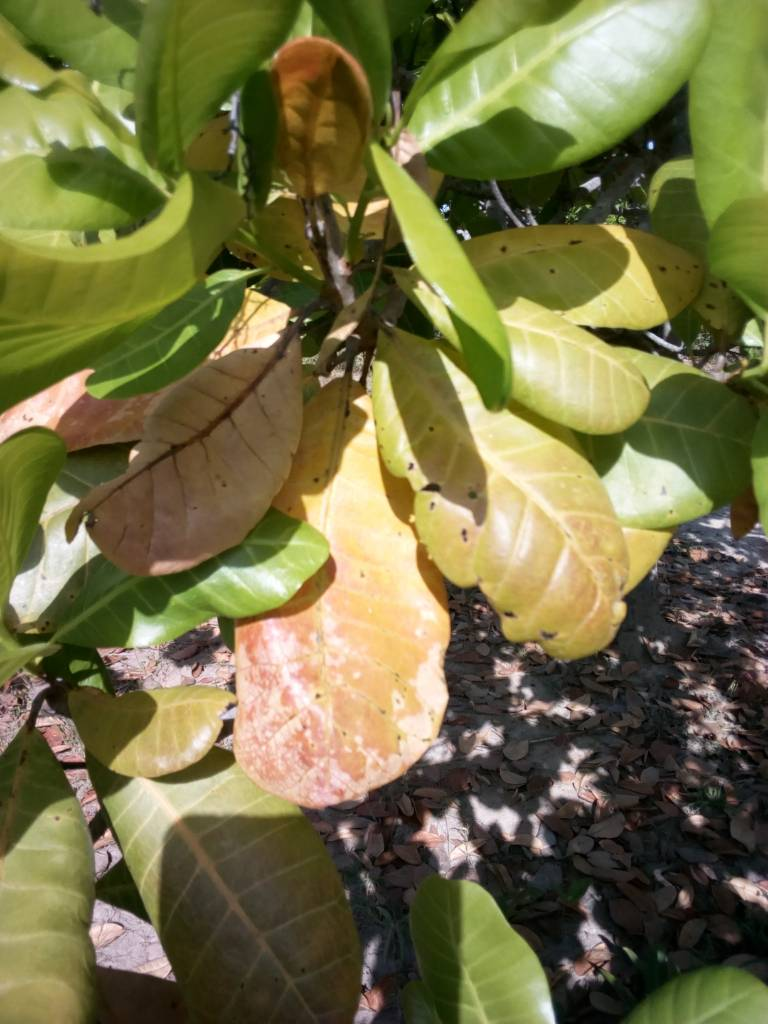Bactériose: (371, 352, 630, 661)
